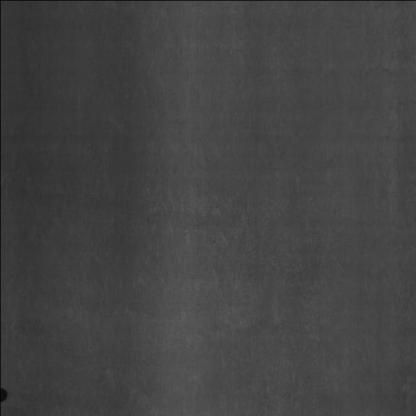punching_hole: (0, 387, 9, 406)
